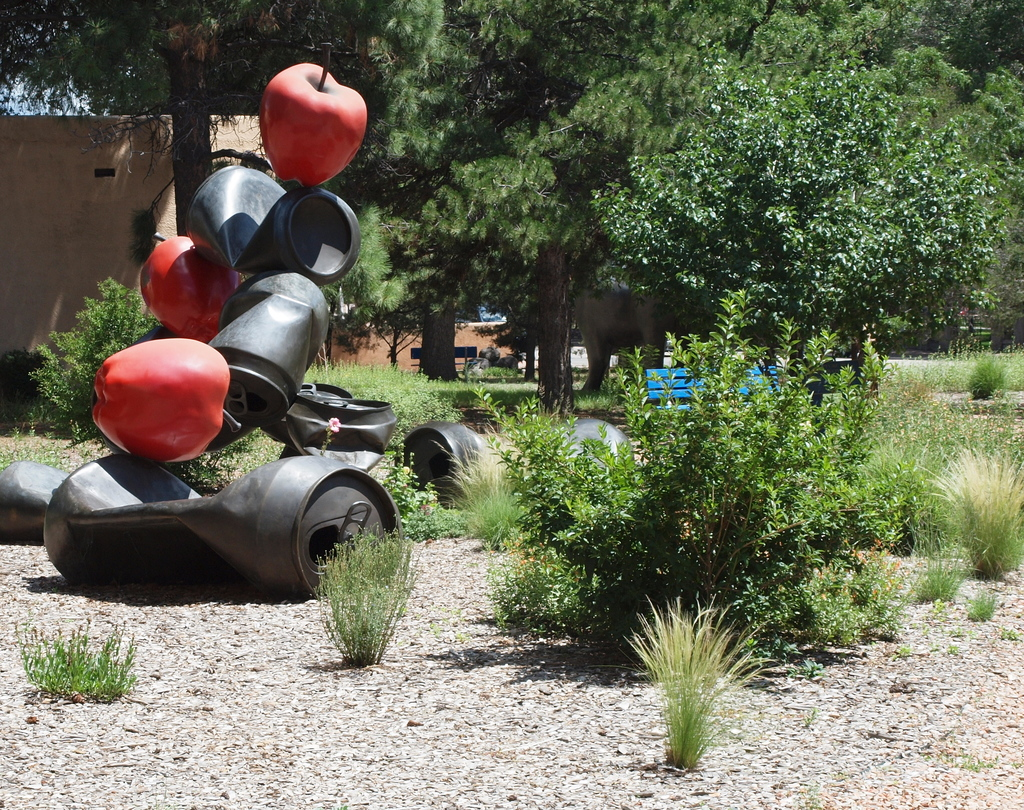Apple: (90, 337, 243, 461), (260, 58, 367, 179), (137, 231, 241, 339)
